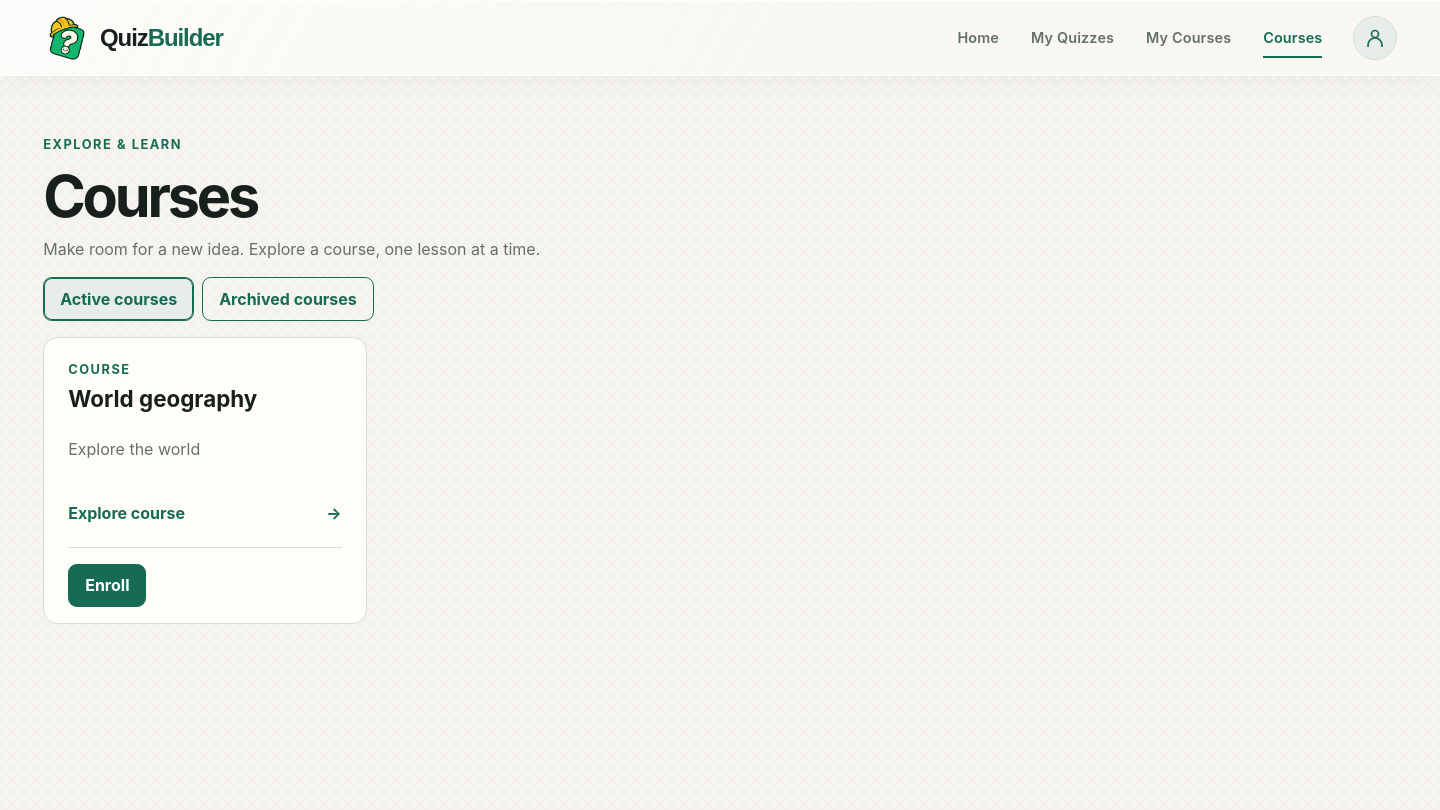
Test: enrolls from Courses and shows the course in My Courses
Click the button with aria-label "Enroll in World geography" at (107, 585), box [68, 564, 146, 607]
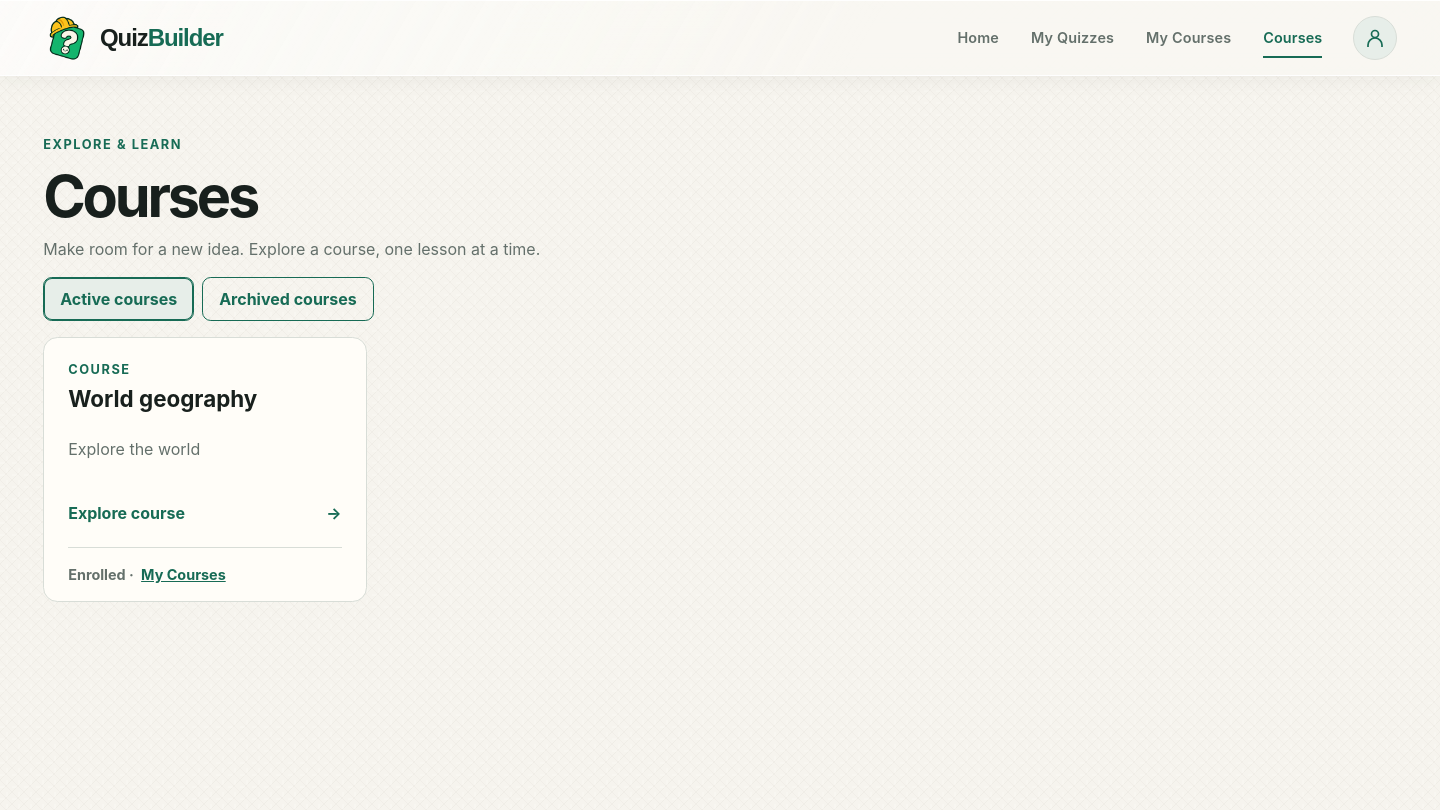
Now the text "Enrolled · My Courses" is shown, box [68, 564, 226, 585]
Click the link "My Courses" next to "My Quizzes" at (1189, 38), box [1144, 16, 1233, 60]
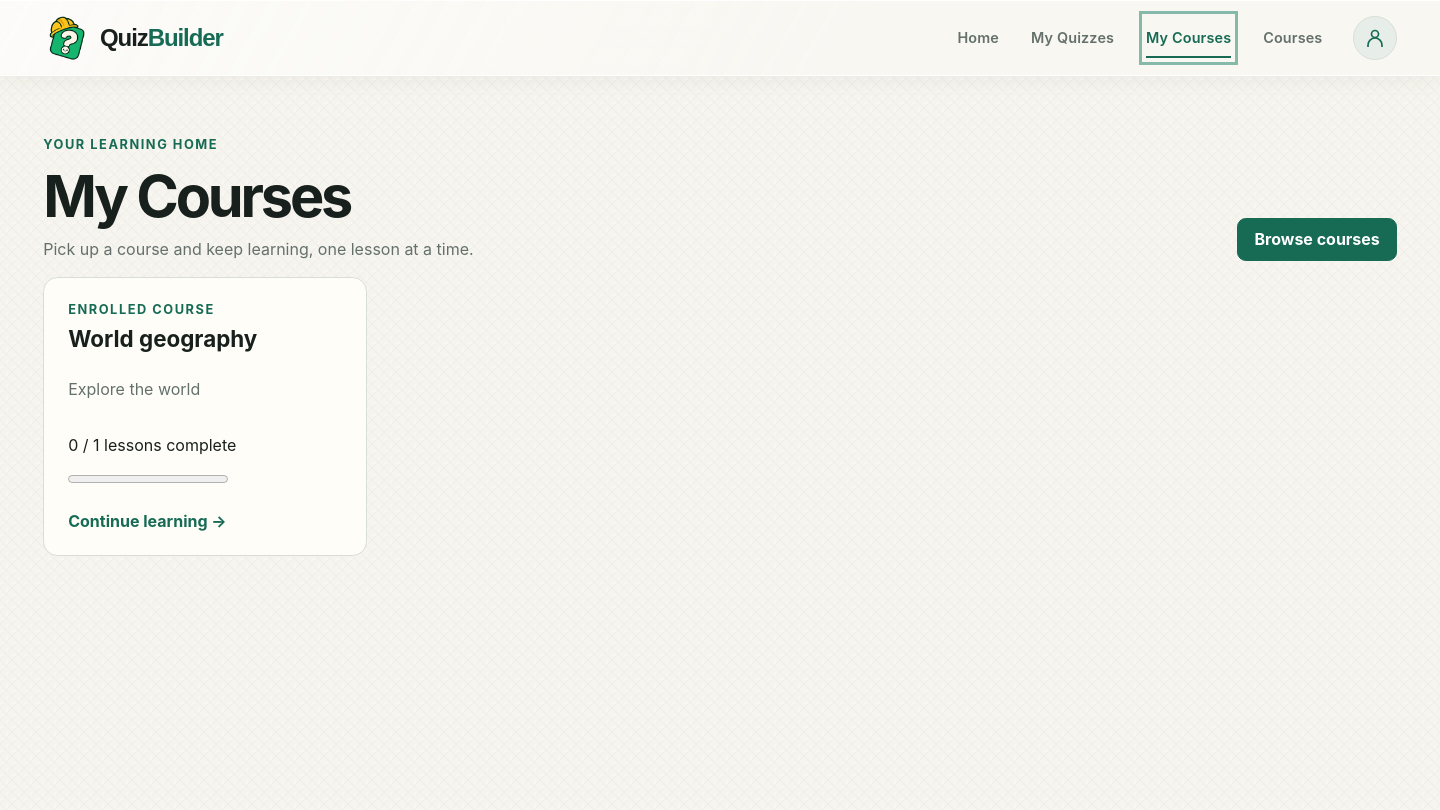
Now the heading "My Courses" is shown, box [43, 161, 350, 231]
Now the text "0 / 1 lessons complete" is shown, box [68, 435, 236, 455]
